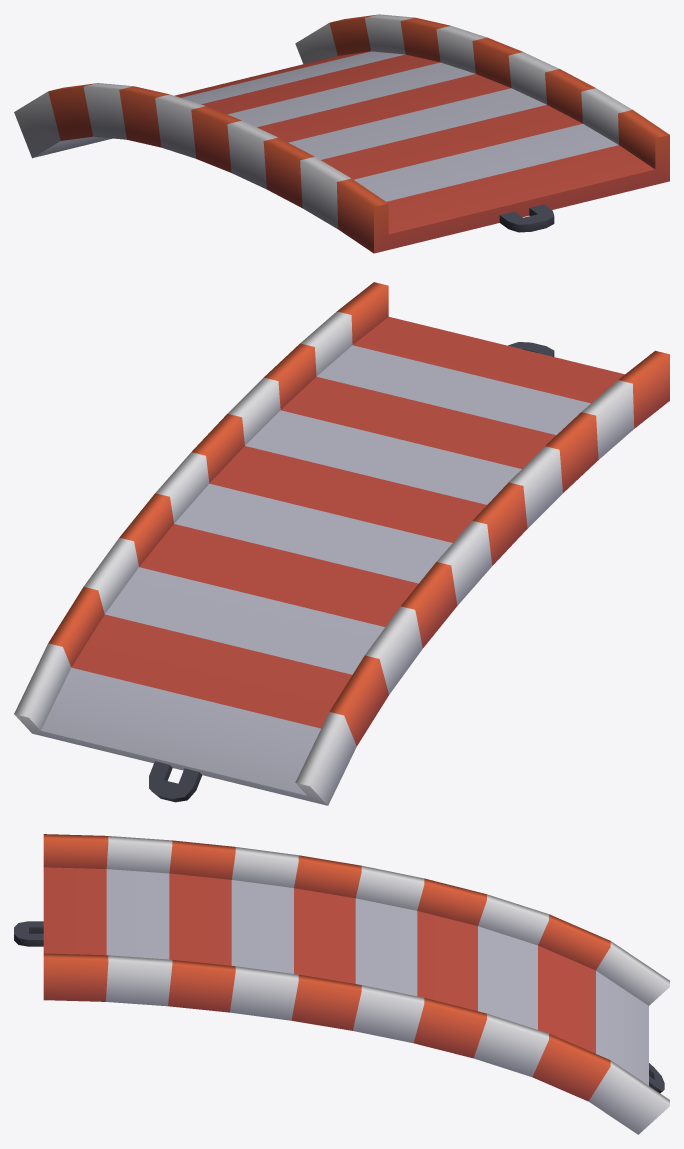
File: track-striped-wide-straight-hill-end.glb
3 renders of one model, top to bottom at view 1: azimuth 30°, elevation 25°; view 2: azimuth 150°, elevation 25°; view 3: azimuth 270°, elevation 25°, orthographic. The views are drawn at different scales.
Parts seen in each view (by area): view 1: track-striped-wide-straight-hill-end; view 2: track-striped-wide-straight-hill-end; view 3: track-striped-wide-straight-hill-end.
Part boxes in pixels (left/top/right/bottom): track-striped-wide-straight-hill-end: left=14, top=14, right=669, bottom=253; track-striped-wide-straight-hill-end: left=14, top=282, right=669, bottom=805; track-striped-wide-straight-hill-end: left=14, top=834, right=669, bottom=1134.
Bounding box in the file's own units: 2 × 1.44 × 4.41.
